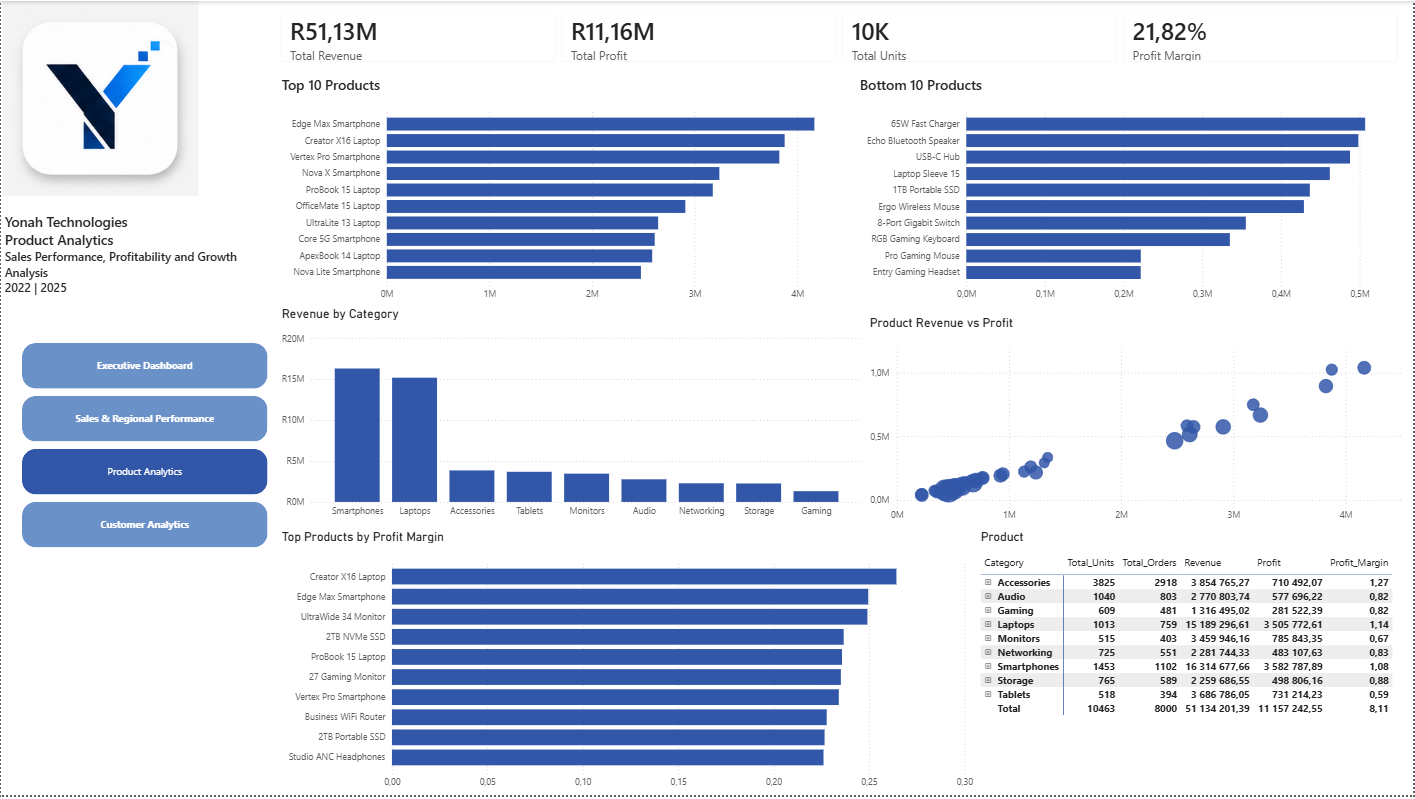

The dashboard page shown, as its layout file describes it:
{"tool":"powerbi","page":{"name":"Product Analytics","canvas":[1920,1080],"ordinal":3},"visuals":[{"type":"image","box":[0,0,270.7,265.2],"z":0},{"type":"textbox","box":[0,265.2,331.9,149.6],"z":1000},{"type":"cardVisual","fields":{"Data":["_Yonah Measures.Total Revenue","_Yonah Measures.Total Profit","_Yonah Measures.Total Units","_Yonah Measures.Profit Margin"]},"box":[363.2,0,1557.4,100.7],"z":2000},{"type":"clusteredBarChart","title":"Top 10 Products","fields":{"Category":["gold ProductPerformance.Product_Name"],"Y":["Sum(gold ProductPerformance.Revenue)"]},"box":[376.8,100.7,790.3,315.6],"z":3000},{"type":"clusteredBarChart","title":"Bottom 10 Products","fields":{"Category":["gold ProductPerformance.Product_Name"],"Y":["Sum(gold ProductPerformance.Revenue)"]},"box":[1162.4,100.8,757.6,315.8],"z":4000},{"type":"clusteredColumnChart","title":"Revenue by Category","fields":{"Category":["dim Product.Category"],"Y":["_Yonah Measures.Total Revenue"]},"box":[376.8,414.9,799.8,296.5],"z":5000},{"type":"scatterChart","title":"Product Revenue vs Profit","fields":{"X":["gold ProductPerformance.Revenue"],"Y":["Sum(gold ProductPerformance.Profit)"],"Size":["Sum(gold ProductPerformance.Total_Units)"]},"box":[1177.2,427,742.8,290.6],"z":6000},{"type":"clusteredBarChart","title":"Top Products by Profit Margin","fields":{"Category":["gold ProductPerformance.Product_Name"],"Y":["Sum(gold ProductPerformance.Profit_Margin)"]},"box":[376.8,718.2,950.8,361.8],"z":7000},{"type":"pivotTable","title":"Product ","fields":{"Rows":["gold ProductPerformance.Category","gold ProductPerformance.Product_Name"],"Values":["Sum(gold ProductPerformance.Total_Units)","Sum(gold ProductPerformance.Total_Orders)","Sum(gold ProductPerformance.Revenue)","Sum(gold ProductPerformance.Profit)","Sum(gold ProductPerformance.Profit_Margin)"]},"box":[1326.9,717.6,593.1,361.8],"z":8000},{"type":"pageNavigator","box":[29.2,465.4,334.1,280.1],"z":9000}]}

Visuals, with their boxes in screenshot pixels (x1, y1, x2, y2), scaled from the page's 1920x1080 canvas onto the 1415x799 screenshot:
image: [0,0,200,196]
textbox: [0,196,245,307]
cardVisual - _Yonah Measures.Total Revenue x _Yonah Measures.Total Profit: [268,0,1414,74]
"Top 10 Products" clusteredBarChart: [278,74,860,308]
"Bottom 10 Products" clusteredBarChart: [857,75,1414,308]
"Revenue by Category" clusteredColumnChart: [278,307,867,526]
"Product Revenue vs Profit" scatterChart: [868,316,1414,531]
"Top Products by Profit Margin" clusteredBarChart: [278,531,978,798]
"Product " pivotTable: [978,531,1414,798]
pageNavigator: [22,344,268,552]
